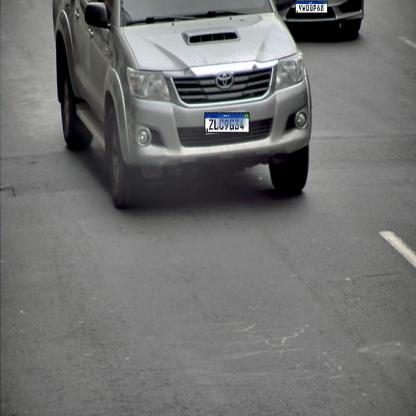PlacaM: (204, 112, 249, 133), (296, 1, 327, 13)
